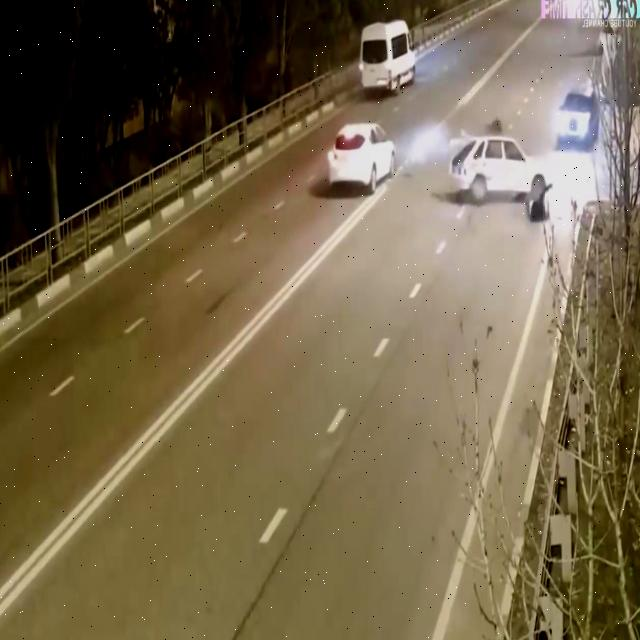accident: (439, 114, 565, 243)
